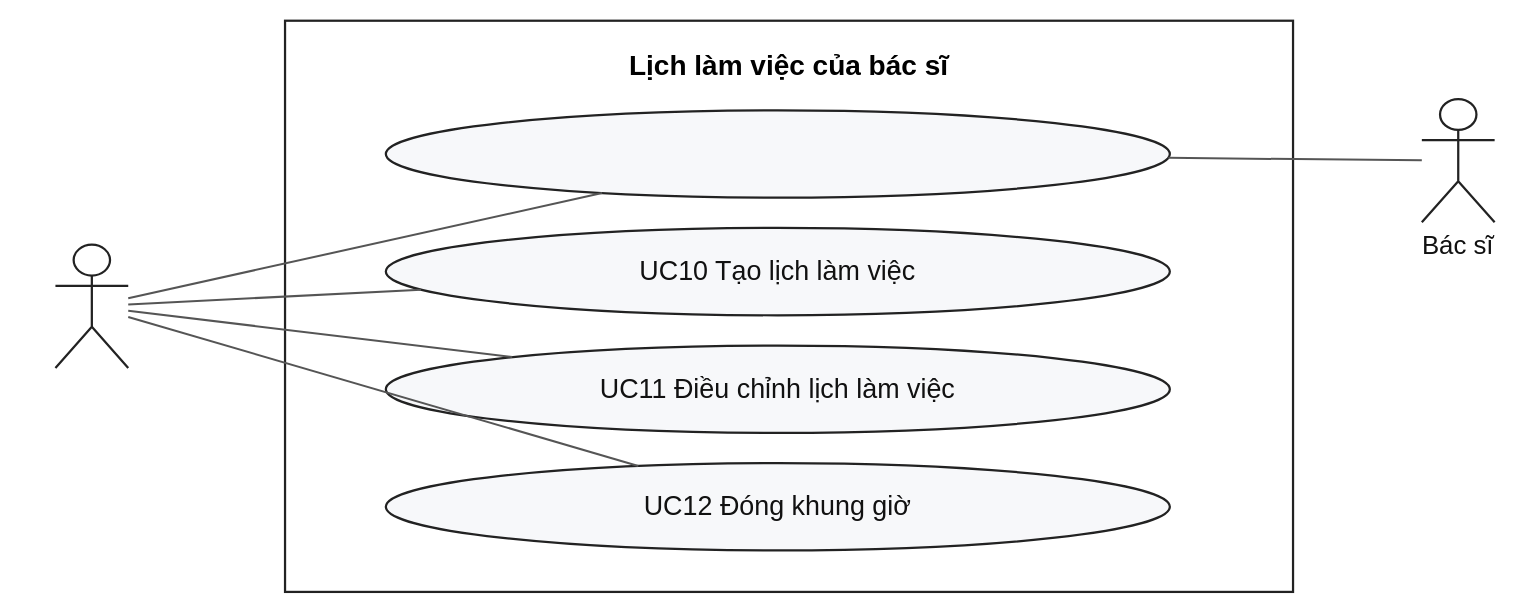
This 1515x612 diagram has some shape labels left out. The shapes that lost their labels are listed below. From the top down, each one's box as (x1, y1, x2, y2) in pixels, then its label:
(384, 109, 1170, 198): UC09 Xem lịch làm việc
(54, 243, 129, 368): Quản trị viên
